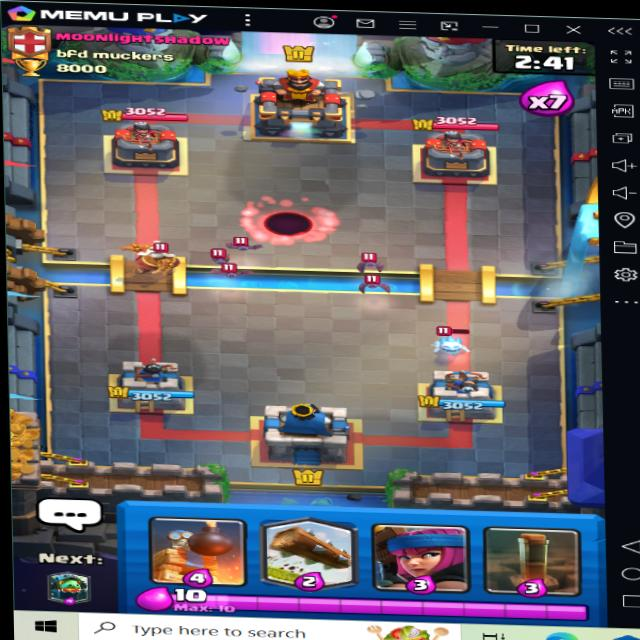bats: (357, 270, 400, 302), (218, 228, 257, 257), (215, 258, 252, 285), (351, 254, 389, 277), (204, 248, 243, 269)
ice-spirit: (429, 328, 479, 360)
monk: (122, 233, 196, 279)
void: (255, 203, 320, 241)
